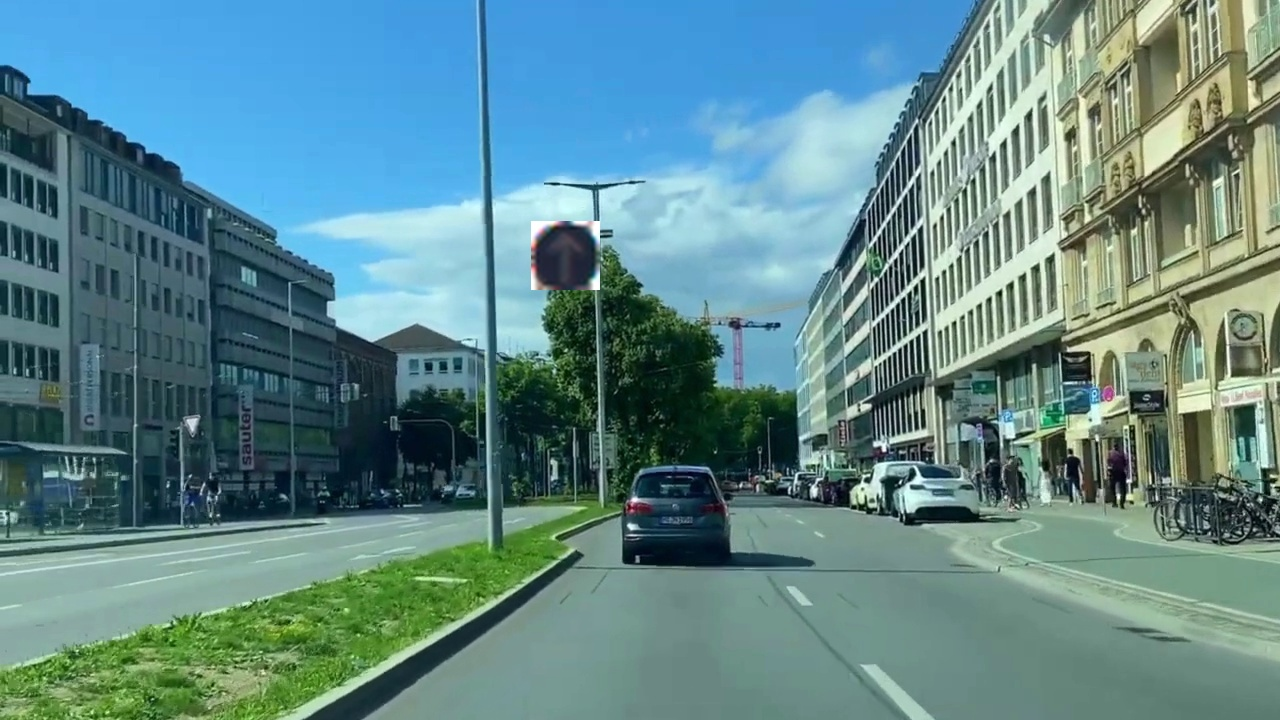Ahead only: (531, 221, 600, 290)
